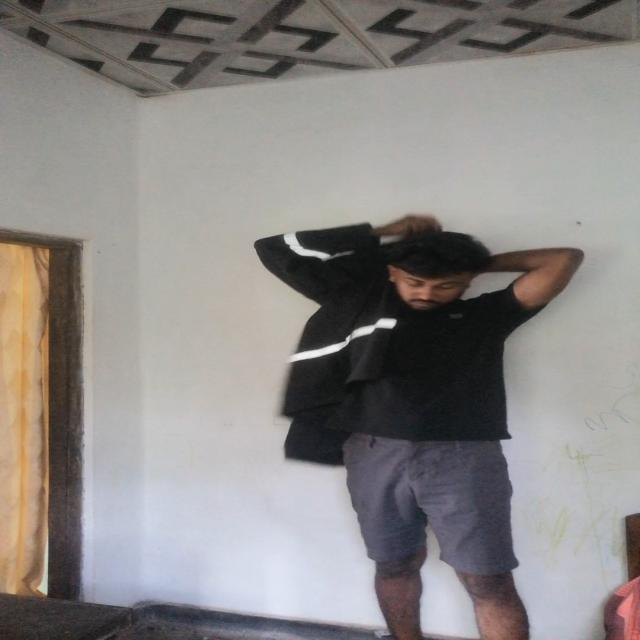Jacket_Wearer: (227, 228, 447, 424)
